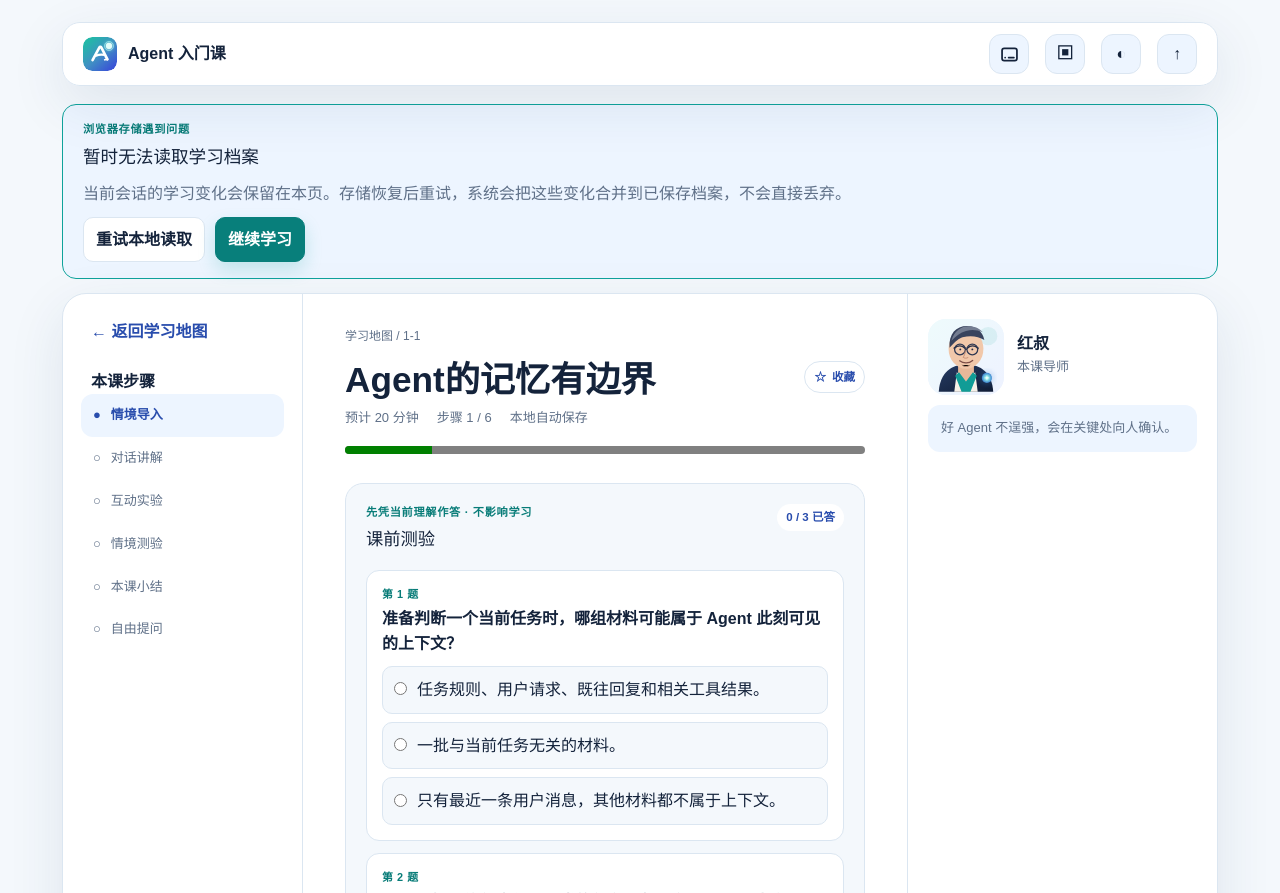
Test: App routes and global learning profile › rebases learning done after an initial read failure onto the recovered canonical profile
Click the button "继续学习".
click(260, 240)  # box [215, 217, 305, 262]
(page scrolled)
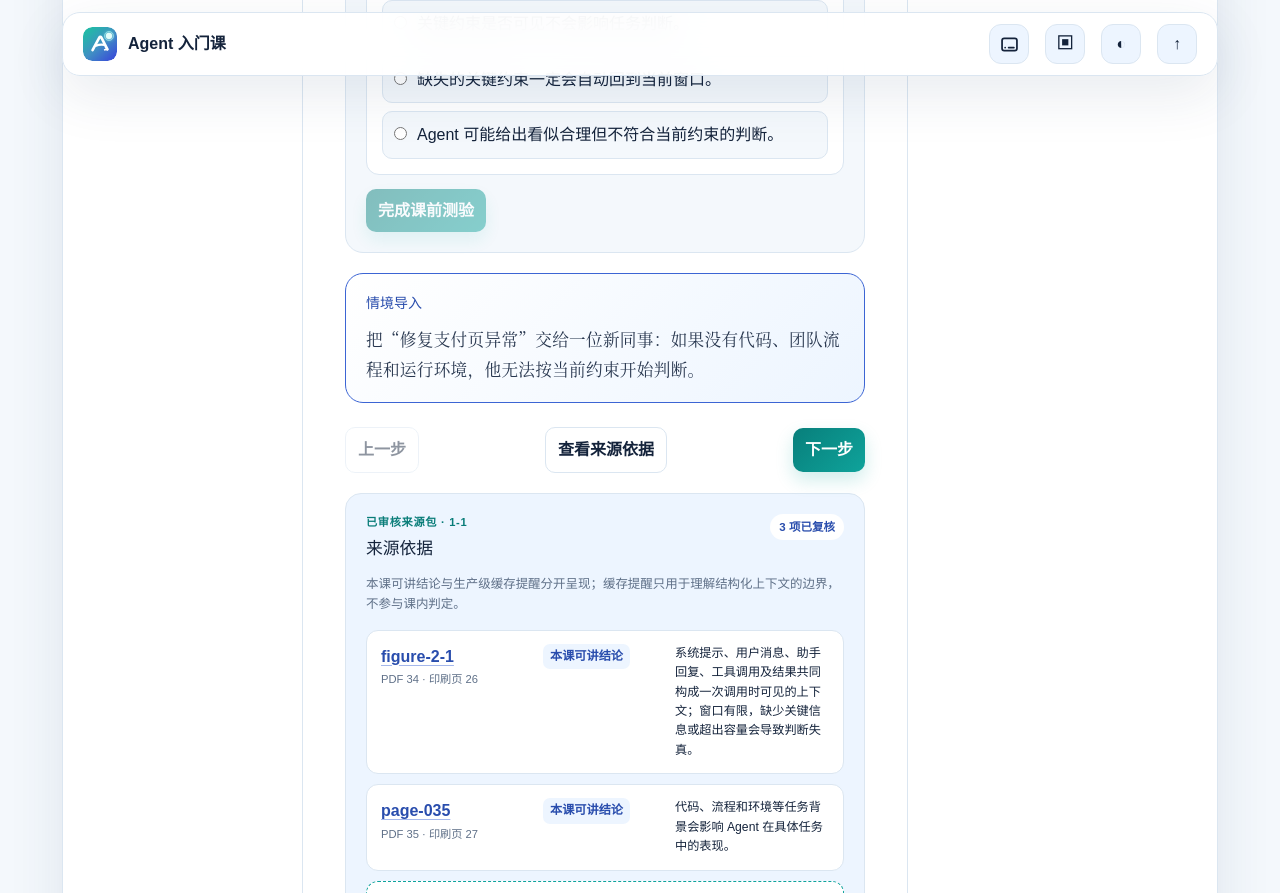
Click the button "下一步".
click(829, 450)  # box [793, 428, 865, 472]
(page scrolled)
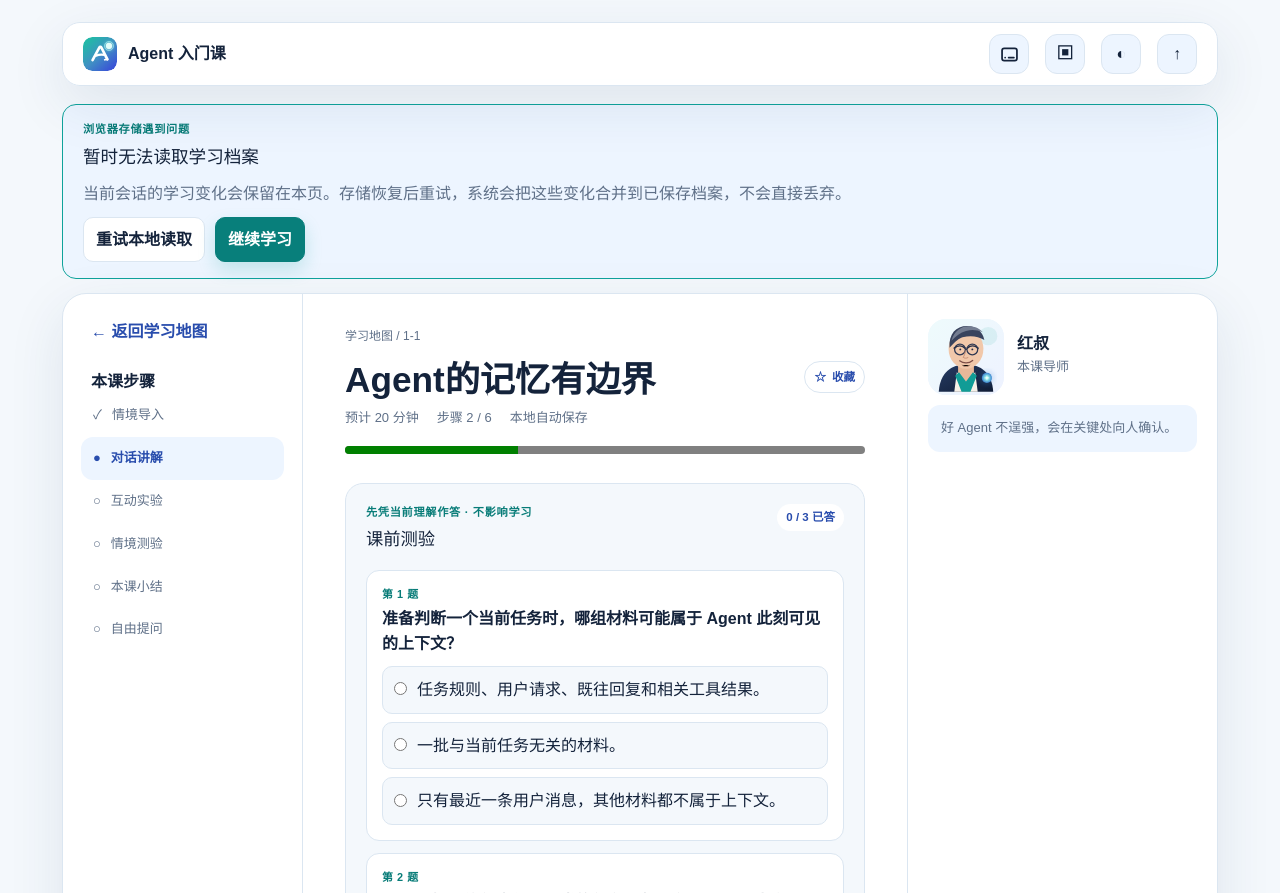
Expected: the text "步骤 2 / 6" is shown, [437, 408, 492, 429]
Click the button "重试本地读取".
click(144, 240)  # box [83, 217, 205, 262]
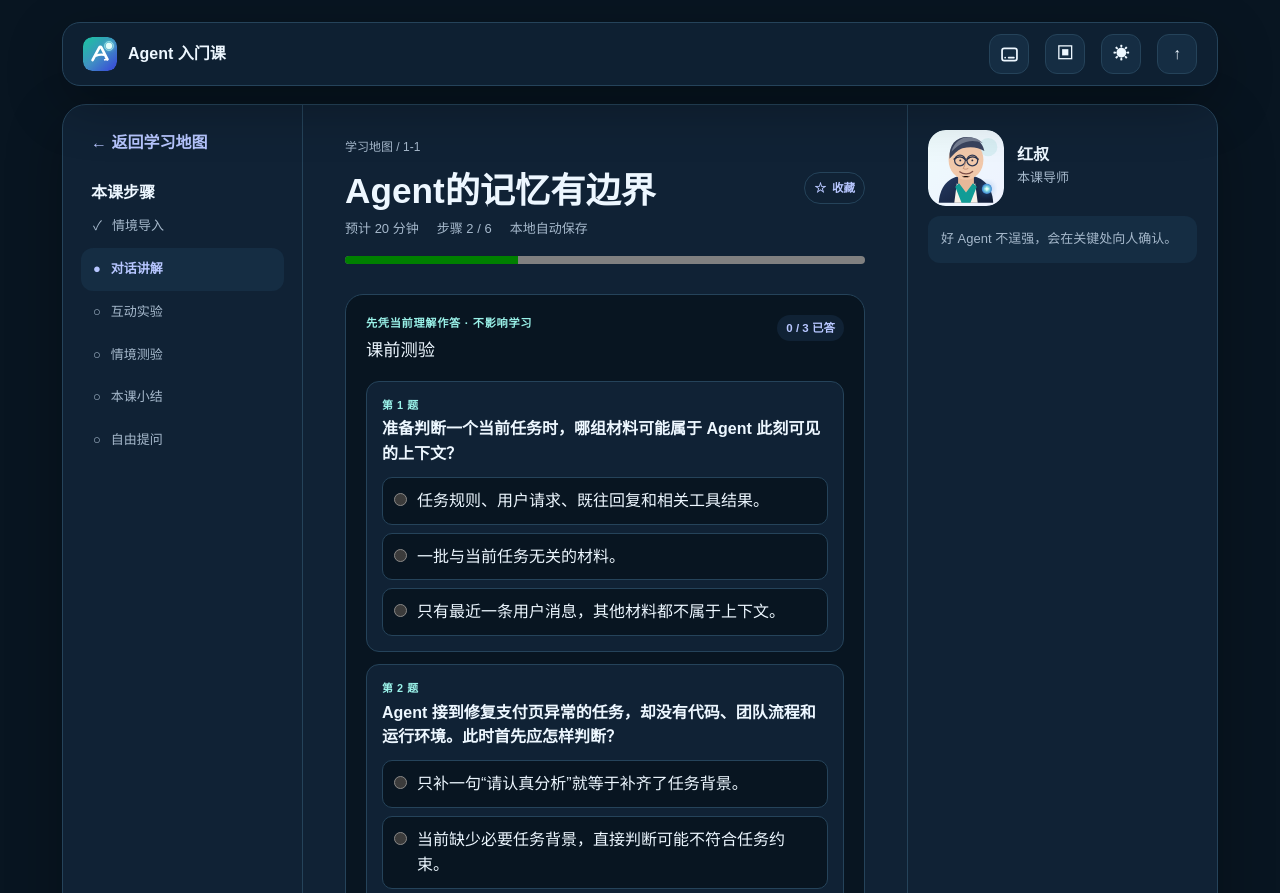
Expected: the text "步骤 2 / 6" is shown, [437, 219, 492, 240]
Expected: the heading "暂时无法读取学习档案" is gone
